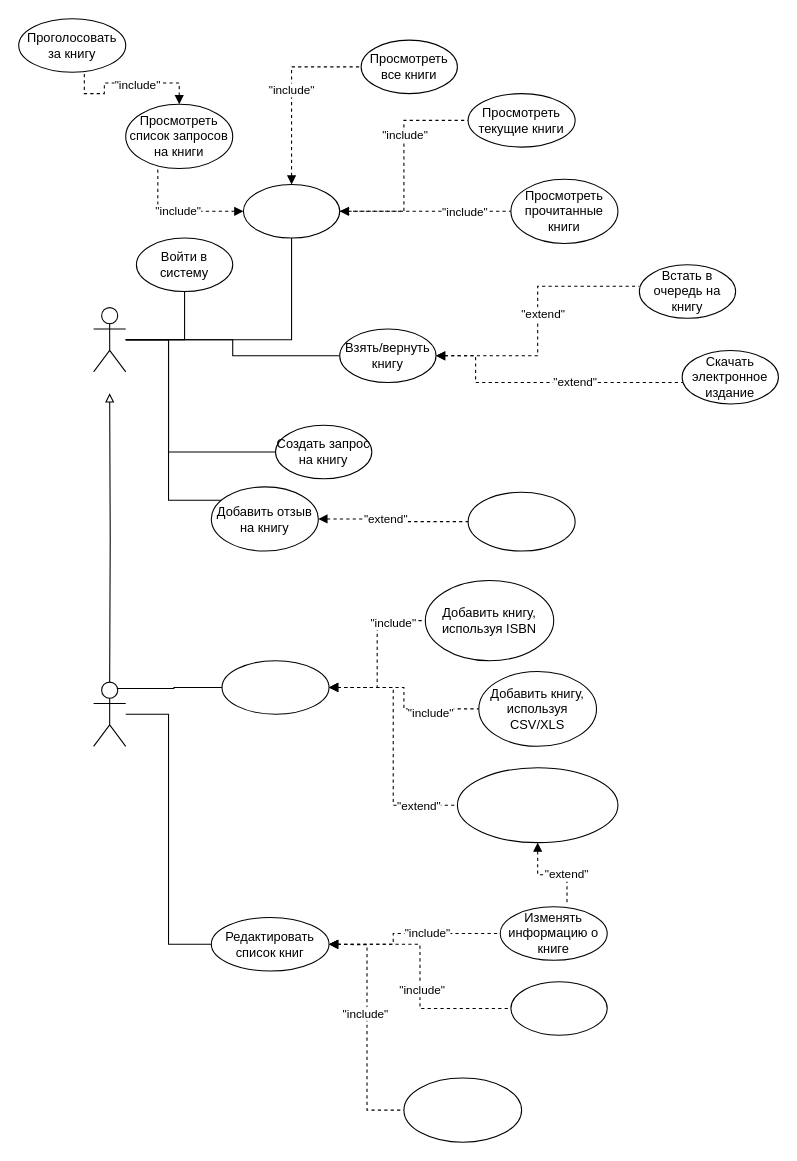
This 797x1161 diagram has some shape labels left out. The shapes that lost their labels are listed below. From the top down, each one's box as (x1, y1, x2, y2) in pixels, then its label:
(242, 184, 340, 238): Просмотреть список книг
(93, 307, 126, 372): Читатель
(467, 491, 575, 551): Удалить свой отзыв на книгу
(221, 660, 329, 714): Добавить книгу
(93, 681, 126, 746): Администратор
(456, 767, 618, 843): Загрузить электронную версию
(510, 981, 607, 1035): Удалить книгу
(403, 1077, 522, 1142): Добавить книгу из списка запросов
